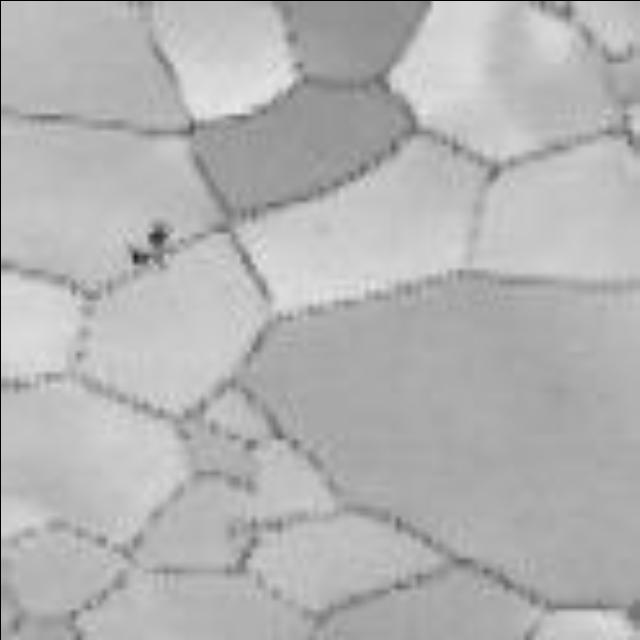good_void: (149, 225, 171, 249), (129, 247, 151, 269)
